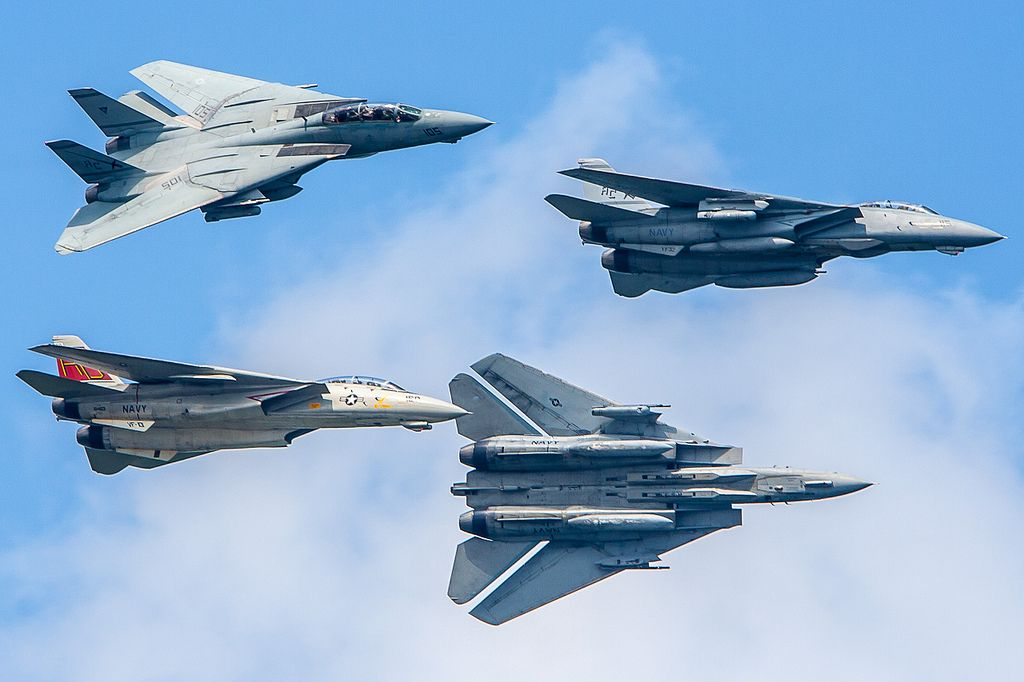F14: (446, 352, 881, 625), (43, 59, 500, 256), (542, 156, 1012, 298), (14, 334, 474, 476)
